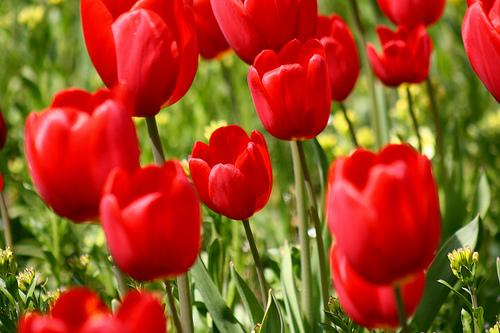tulip: (324, 142, 441, 285), (22, 86, 142, 221), (80, 1, 199, 117), (99, 158, 202, 281), (248, 37, 334, 140), (188, 123, 273, 221), (365, 21, 433, 89)
